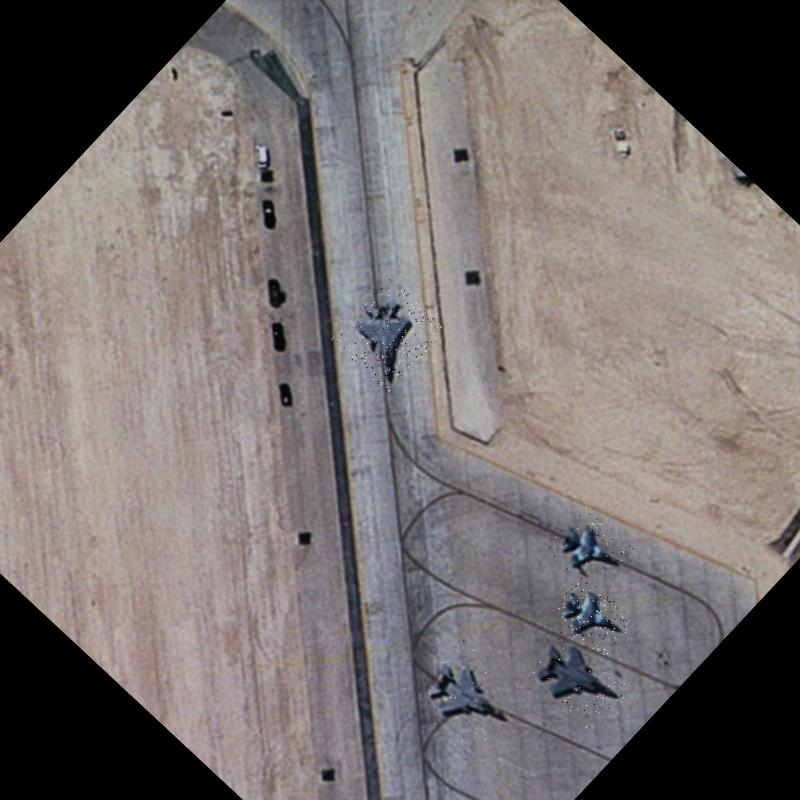A13: (404, 632, 528, 756), (330, 276, 446, 394), (521, 628, 630, 734)
A5: (544, 504, 640, 598), (550, 574, 637, 660)
